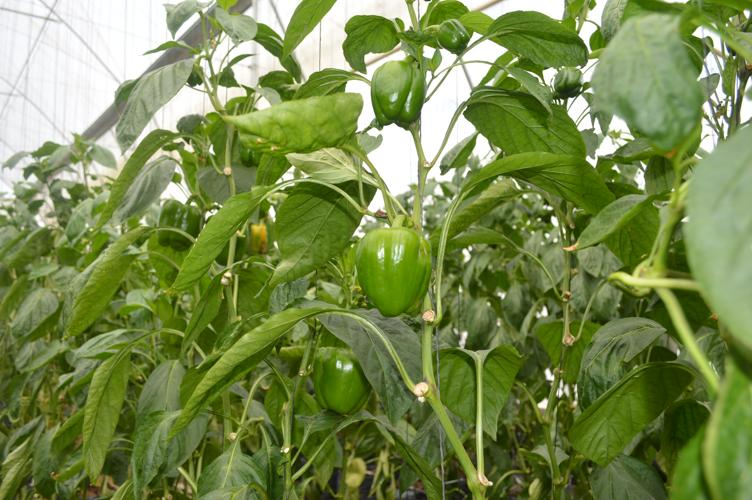BellPepper: (354, 226, 428, 313), (361, 64, 427, 130), (314, 351, 376, 415), (154, 200, 199, 250)
